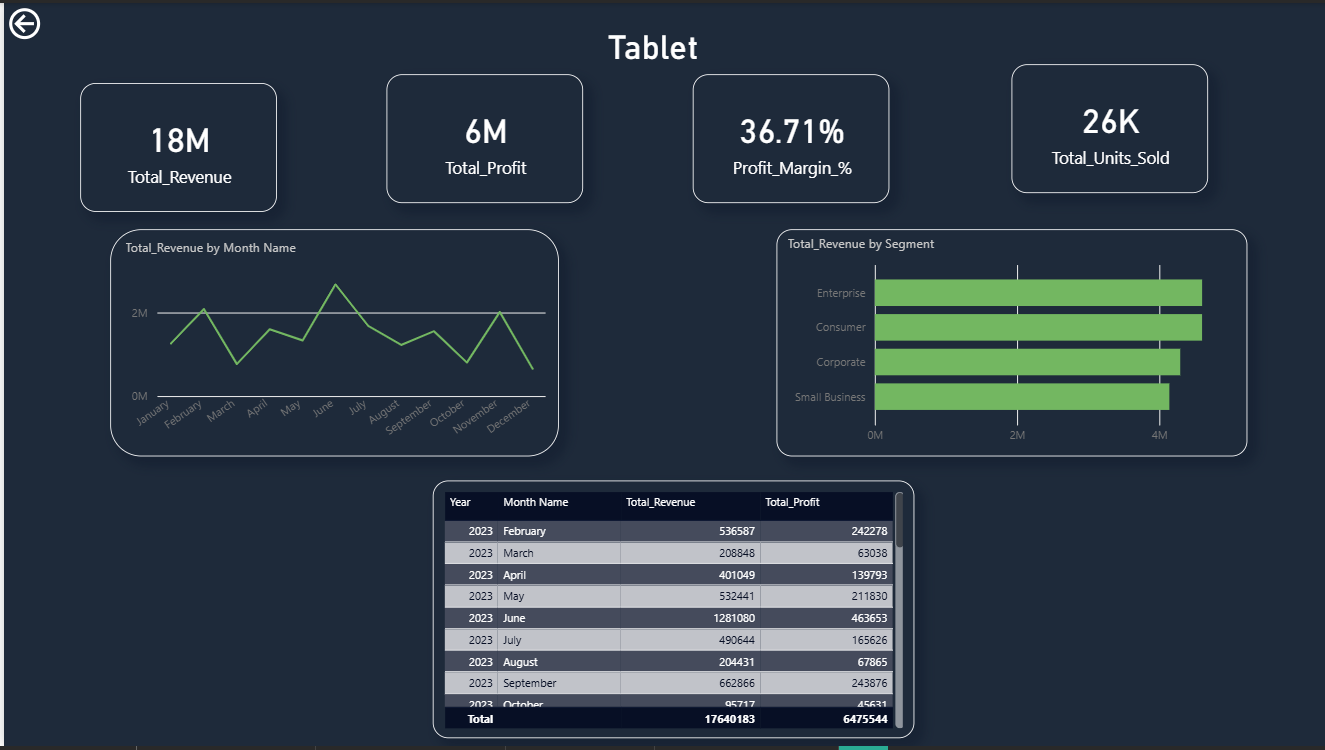

The dashboard page shown, as its layout file describes it:
{"tool":"powerbi","page":{"name":"Product Detail","canvas":[1280,720],"ordinal":2},"visuals":[{"type":"actionButton","box":[0,0,100,40],"z":0},{"type":"lineChart","fields":{"Category":["Dim_Date.Month Name"],"Y":["_Measures.Total_Revenue"]},"box":[102.9,219.1,434.6,220.3],"z":1},{"type":"barChart","fields":{"Category":["Dim_Segment.Segment"],"Y":["_Measures.Total_Revenue"]},"box":[748.1,219.1,456.4,220.3],"z":2},{"type":"card","fields":{"Values":["_Measures.Total_Revenue"]},"box":[73.8,77.5,190,125],"z":3},{"type":"card","fields":{"Values":["_Measures.Total_Profit"]},"box":[370.4,69,190,125],"z":4},{"type":"card","fields":{"Values":["_Measures.Profit_Margin_%"]},"box":[667,69,190,125],"z":5},{"type":"card","fields":{"Values":["_Measures.Total_Units_Sold"]},"box":[975.7,59.3,190,125],"z":6},{"type":"tableEx","fields":{"Values":["Dim_Date.Year","Dim_Date.Month Name","_Measures.Total_Revenue","_Measures.Total_Profit"]},"box":[415.2,462.4,466,249.4],"z":7},{"type":"card","fields":{"Values":["_Measures.Selected"]},"box":[462.4,1.2,332.9,77.5],"z":8}]}

Visuals, with their boxes in screenshot pixels (x1, y1, x2, y2), scaled from the page's 1280x720 canvas onto the 1325x750 screenshot:
actionButton: box(0, 0, 104, 42)
lineChart - Dim_Date.Month Name x _Measures.Total_Revenue: box(107, 228, 556, 458)
barChart - Dim_Segment.Segment x _Measures.Total_Revenue: box(774, 228, 1247, 458)
card - _Measures.Total_Revenue: box(76, 81, 273, 211)
card - _Measures.Total_Profit: box(383, 72, 580, 202)
card - _Measures.Profit_Margin_%: box(690, 72, 887, 202)
card - _Measures.Total_Units_Sold: box(1010, 62, 1207, 192)
tableEx - Dim_Date.Year x Dim_Date.Month Name: box(430, 482, 912, 741)
card - _Measures.Selected: box(479, 1, 823, 82)
